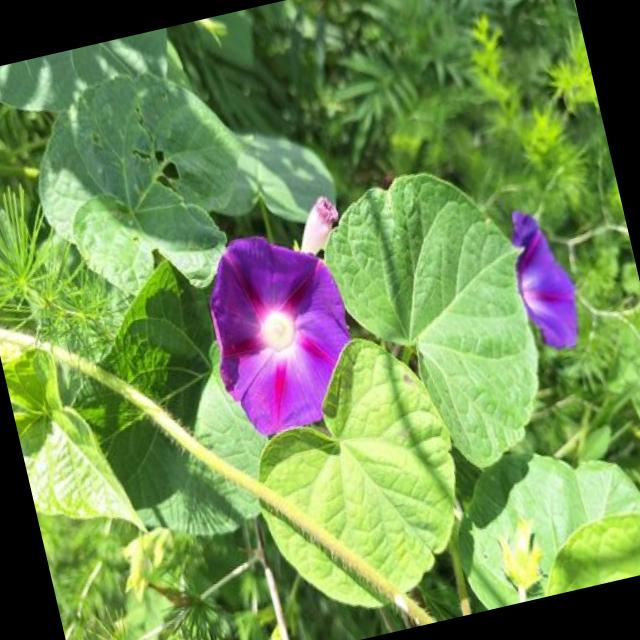ipomoea: (186, 215, 374, 450), (494, 196, 592, 364)
